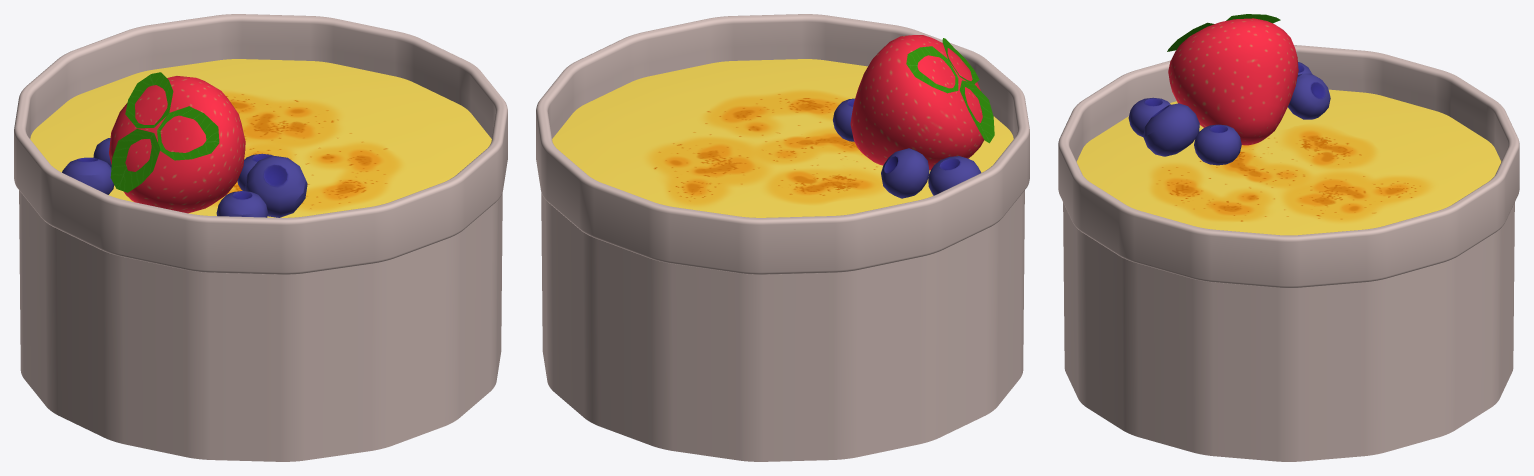
Rendered from creme brulee.fbx.
The picture shows the model from 3 angles, left to right: view 1: azimuth 30°, elevation 25°; view 2: azimuth 150°, elevation 25°; view 3: azimuth 270°, elevation 25°; orthographic projection. The views are drawn at different scales.
Parts seen in each view (by area): view 1: container, creme brulee, strawberry, blueberry.003, leaf.002, leaf.001, blueberry.001, blueberry.004, leaf; view 2: container, creme brulee, strawberry, blueberry, blueberry.001, leaf.002, leaf, blueberry.002; view 3: container, creme brulee, strawberry, blueberry.003, blueberry.002, blueberry, blueberry.004.
Boxes of the visible parts, left/top/right/bottom form: container: left=14, top=14, right=507, bottom=461; creme brulee: left=30, top=59, right=491, bottom=217; strawberry: left=109, top=76, right=245, bottom=213; blueberry.003: left=245, top=155, right=307, bottom=217; leaf.002: left=110, top=129, right=160, bottom=192; leaf.001: left=157, top=106, right=219, bottom=160; blueberry.001: left=62, top=157, right=114, bottom=194; blueberry.004: left=216, top=191, right=268, bottom=217; leaf: left=125, top=72, right=173, bottom=128; container: left=536, top=14, right=1029, bottom=461; creme brulee: left=552, top=59, right=1013, bottom=217; strawberry: left=850, top=35, right=983, bottom=170; blueberry: left=881, top=148, right=929, bottom=198; blueberry.001: left=928, top=156, right=981, bottom=195; leaf.002: left=959, top=80, right=994, bottom=143; leaf: left=906, top=46, right=958, bottom=93; blueberry.002: left=833, top=98, right=854, bottom=141; container: left=1058, top=45, right=1519, bottom=461; creme brulee: left=1076, top=89, right=1501, bottom=235; strawberry: left=1168, top=18, right=1298, bottom=145; blueberry.003: left=1143, top=103, right=1199, bottom=156; blueberry.002: left=1194, top=124, right=1241, bottom=165; blueberry: left=1288, top=73, right=1330, bottom=119; blueberry.004: left=1128, top=97, right=1170, bottom=136.
Bounding box in the file's own units: 20.9 × 15.07 × 20.9.
Materials: 5 (4 with a texture image).
